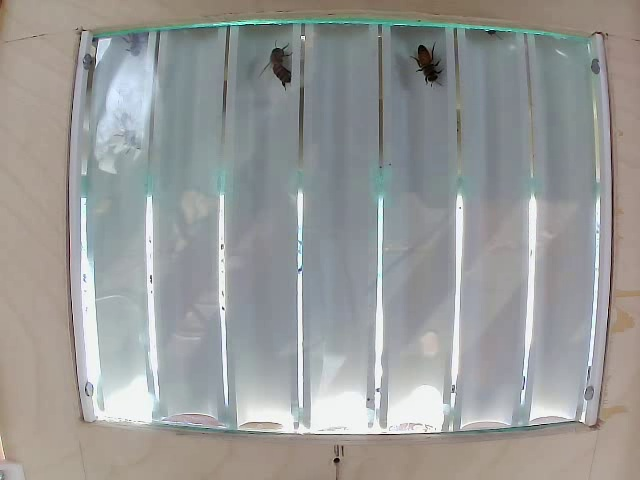bee: (268, 49, 306, 97), (409, 33, 433, 83)
